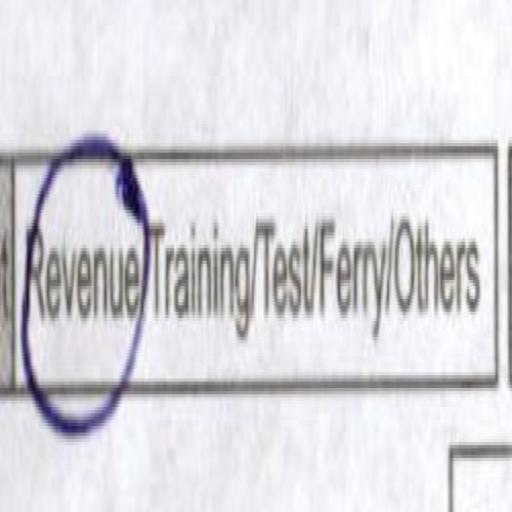check: (21, 91, 149, 452)
